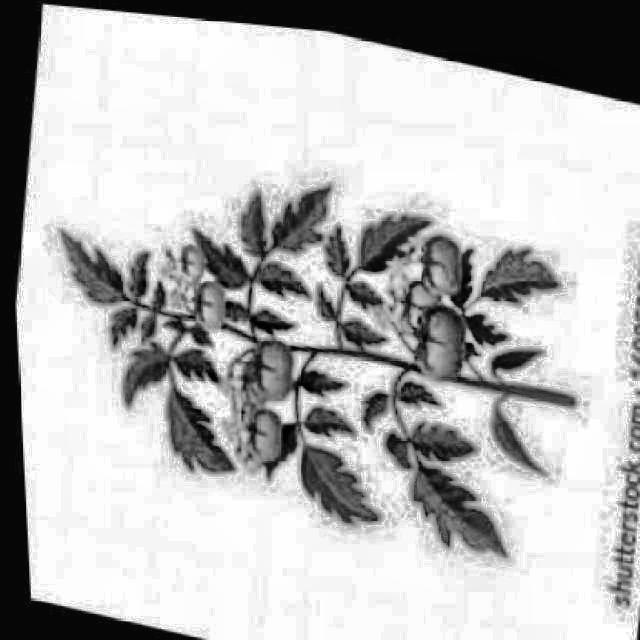plants: (16, 119, 586, 576)
